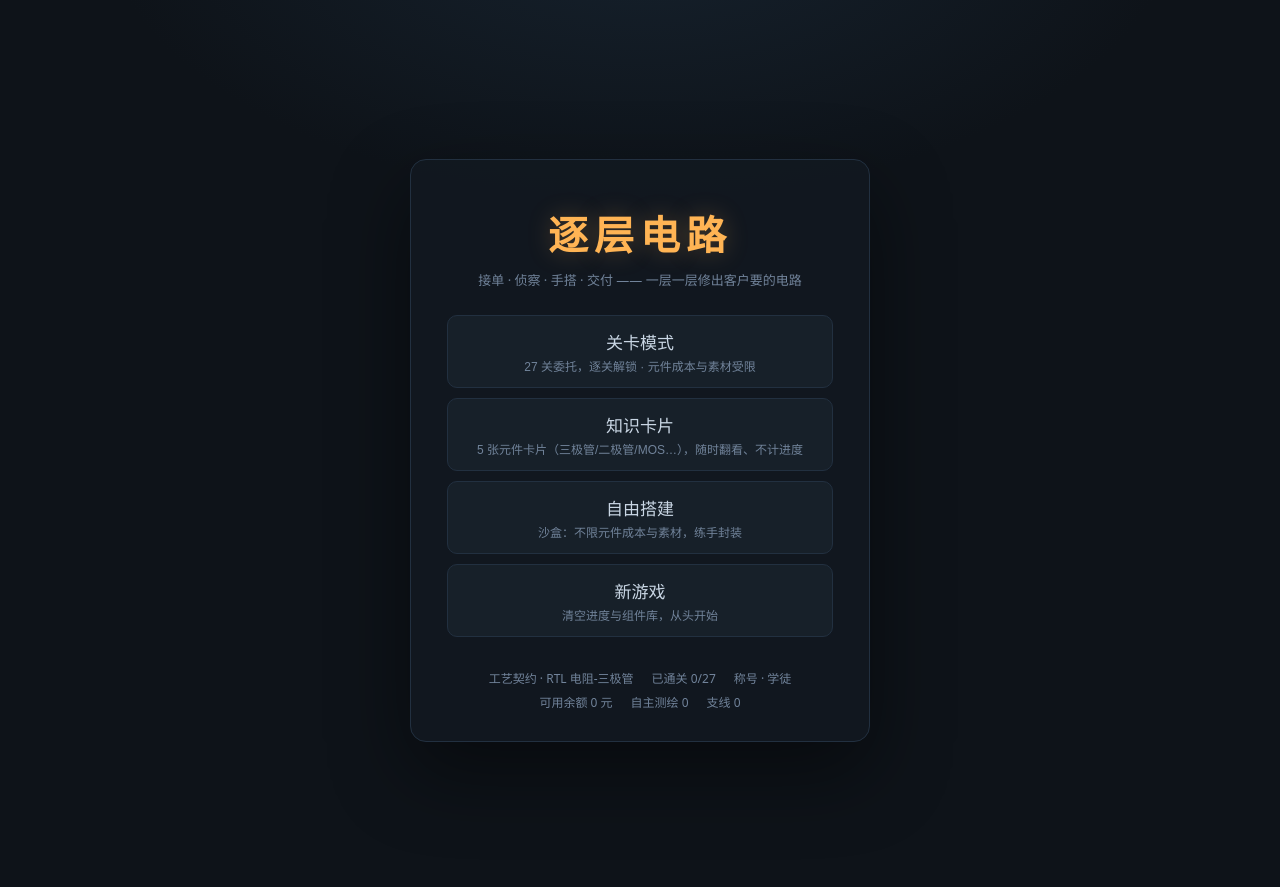
游戏壳：主菜单 / 关卡地图 / 会话恢复 › 自由搭建从主菜单进：工作台出现，但没有「交付验收」（关卡专属）
Click the button "自由搭建 沙盒：不限元件成本与素材，练手封装" at (640,517), box [447,480,833,554]
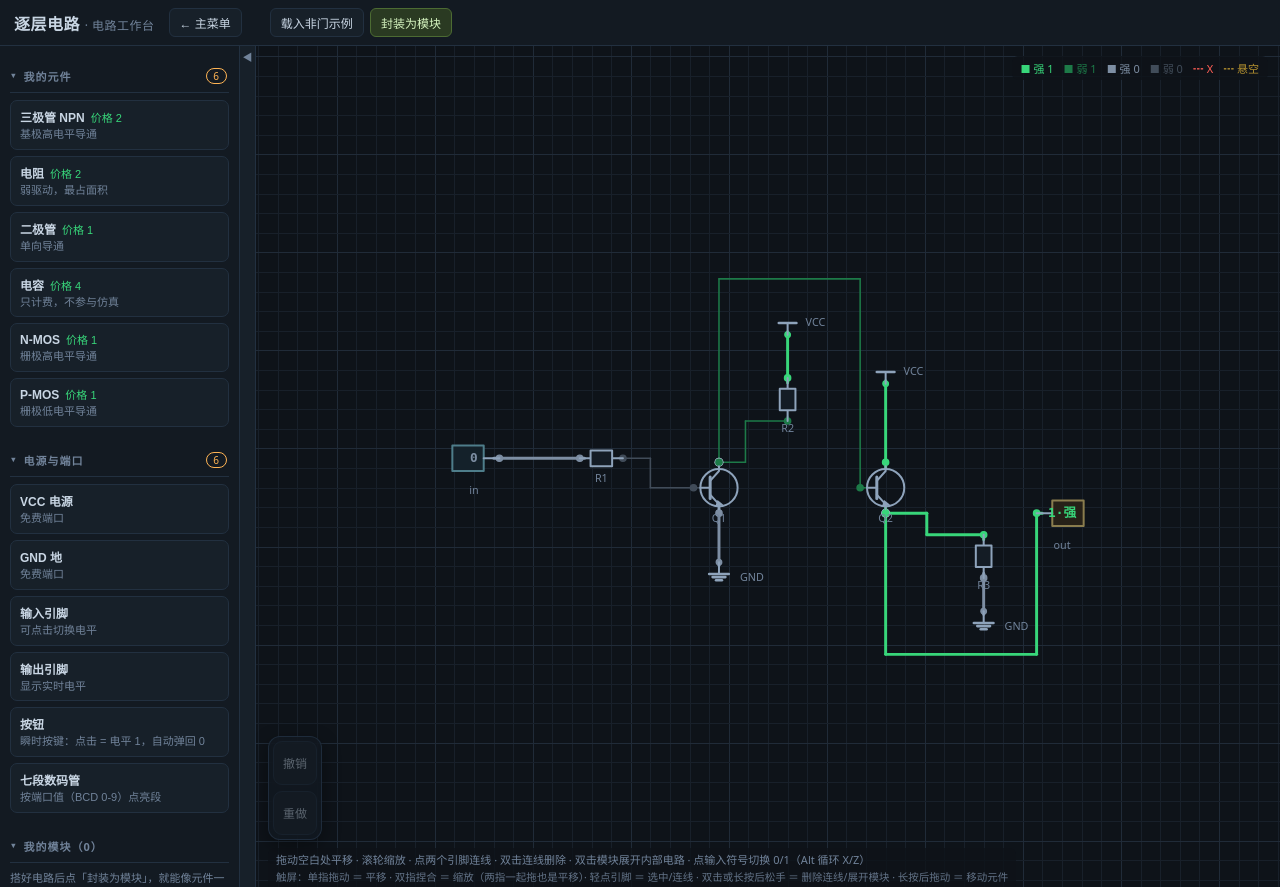
Check: the text "· 电路工作台" is shown, box [85,16,154,34]
